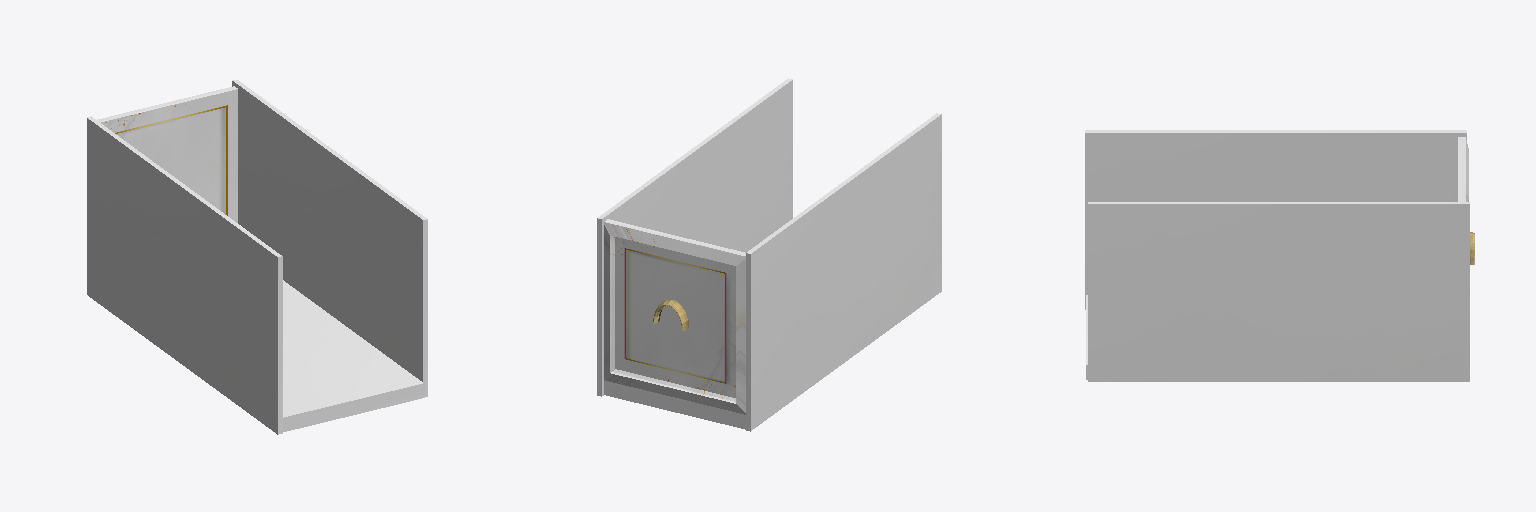
The picture shows the model from 3 angles: view 1: azimuth 30°, elevation 25°; view 2: azimuth 150°, elevation 25°; view 3: azimuth 270°, elevation 25°; orthographic projection.
Parts seen in each view (by area): view 1: CajonIzq3:polySurface3; view 2: CajonIzq3:polySurface3; view 3: CajonIzq3:polySurface3.
Boxes of the visible parts, x1=… form: CajonIzq3:polySurface3: x1=87, y1=80, x2=427, y2=434; CajonIzq3:polySurface3: x1=597, y1=78, x2=941, y2=431; CajonIzq3:polySurface3: x1=1085, y1=130, x2=1474, y2=381.
Size of the model in its own units: 1.56 by 1.74 by 3.48.
2 materials, 2 textured.